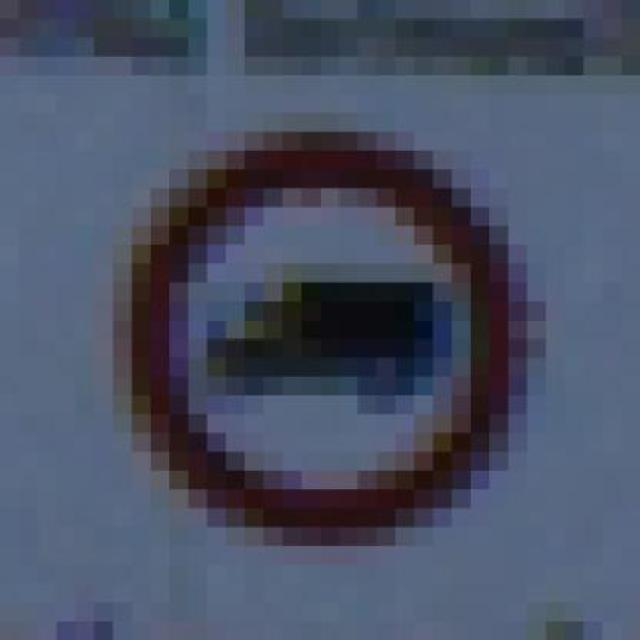Truck traffic is prohibited: (93, 93, 564, 564)
